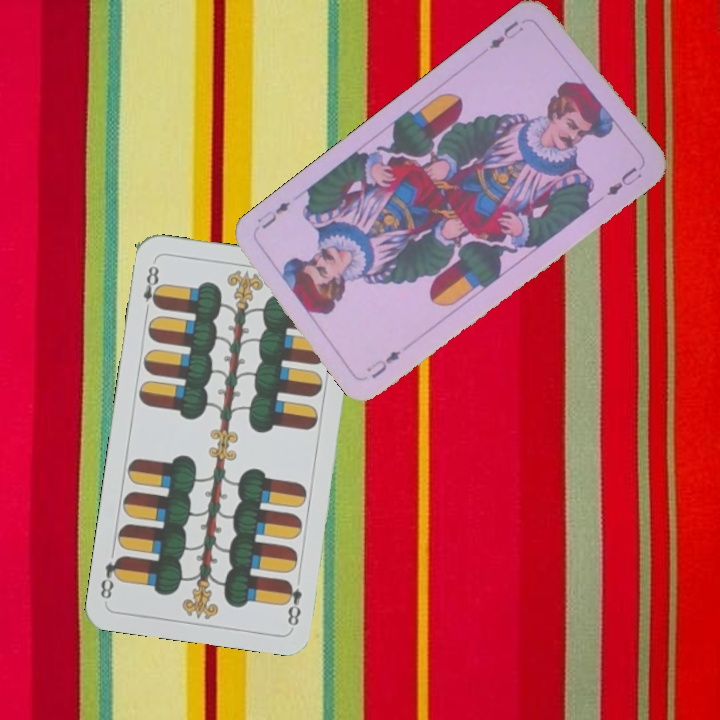E8: (139, 261, 164, 317), (280, 577, 305, 628)
EU: (362, 346, 404, 382), (485, 16, 526, 52)
